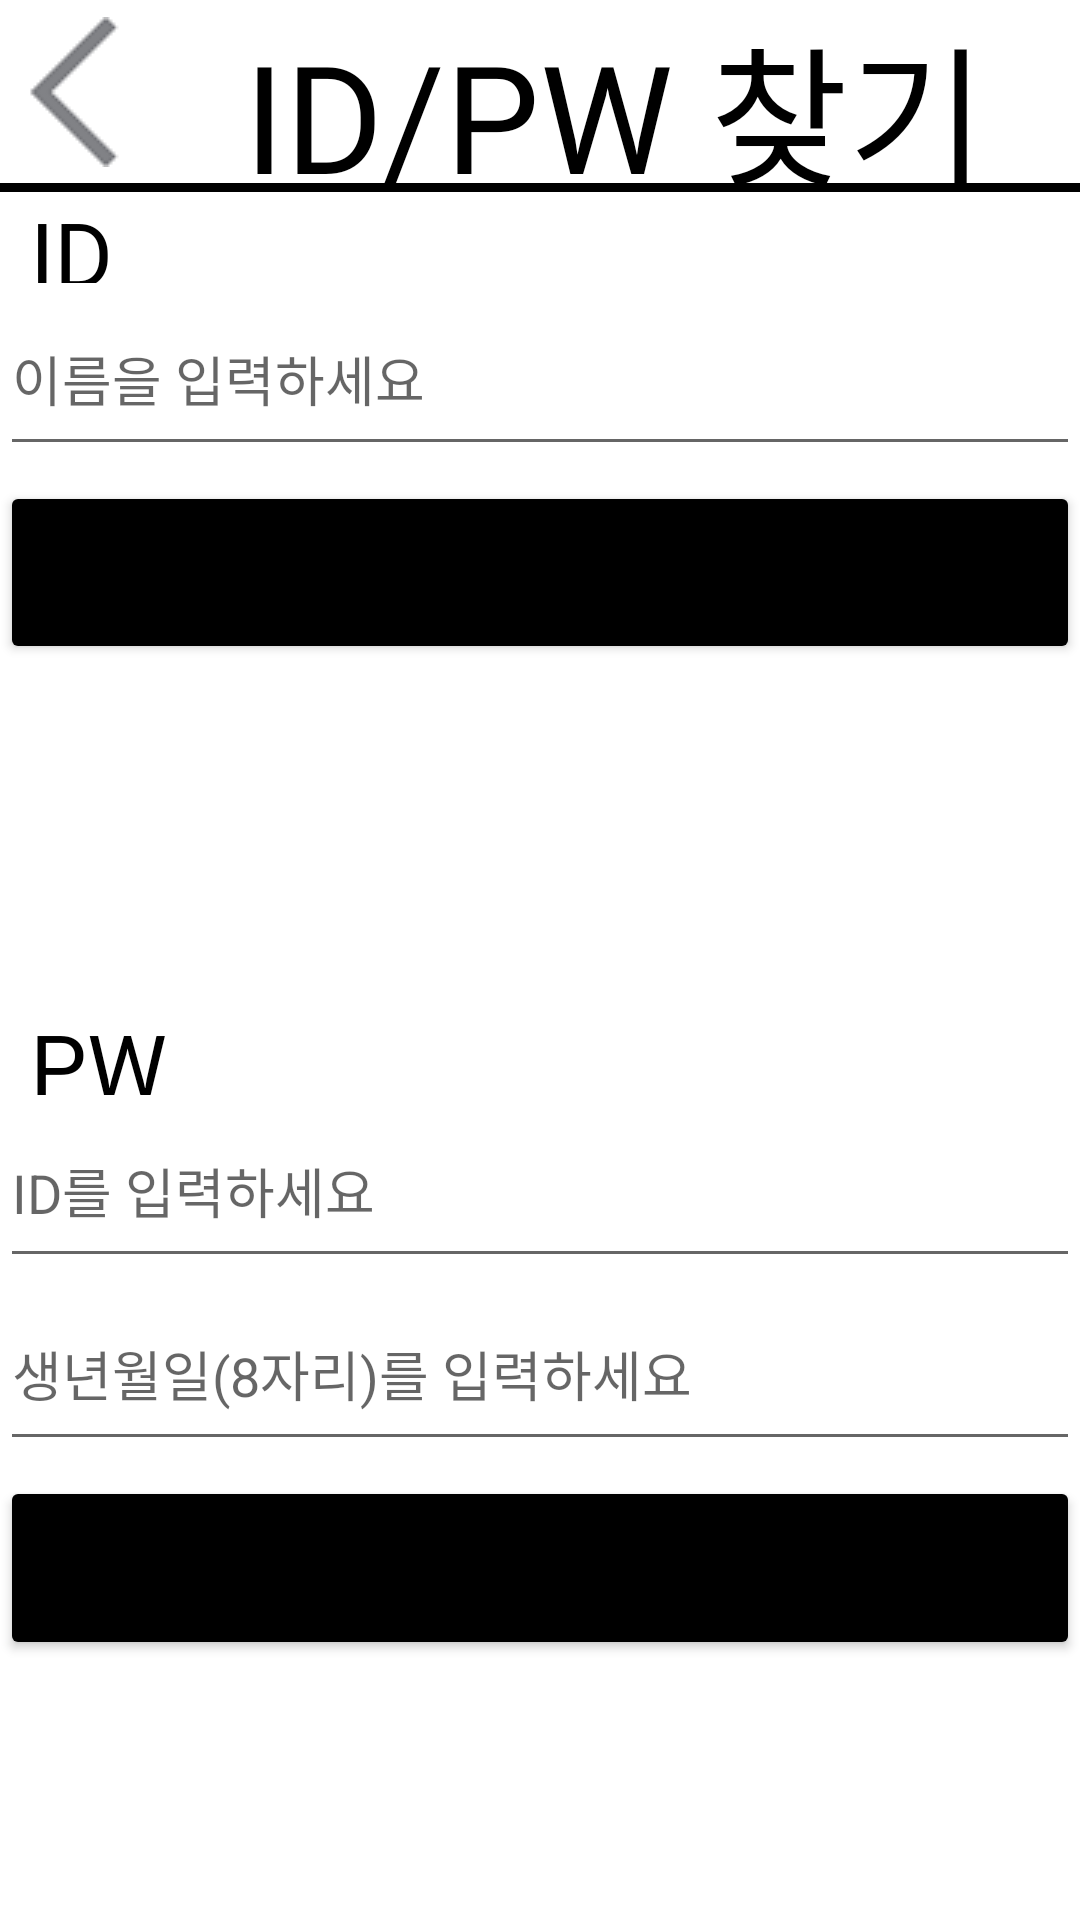

Icon click points for this 1080x1920 phone screenshot, format [x,y]:
back space: [73,92]
